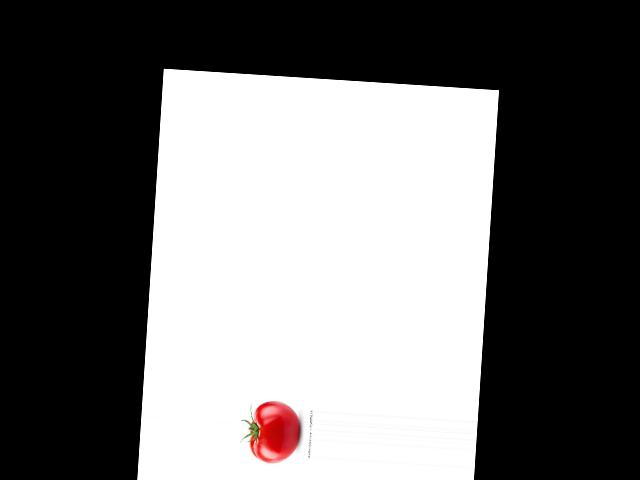tomato: (249, 399, 301, 464)
